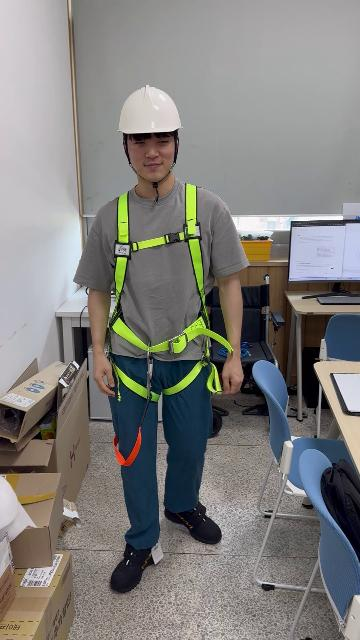helmet_worn: (115, 84, 185, 136)
shoe_worn: (109, 541, 157, 593), (164, 502, 220, 544)
vest_worn: (102, 183, 229, 408)
